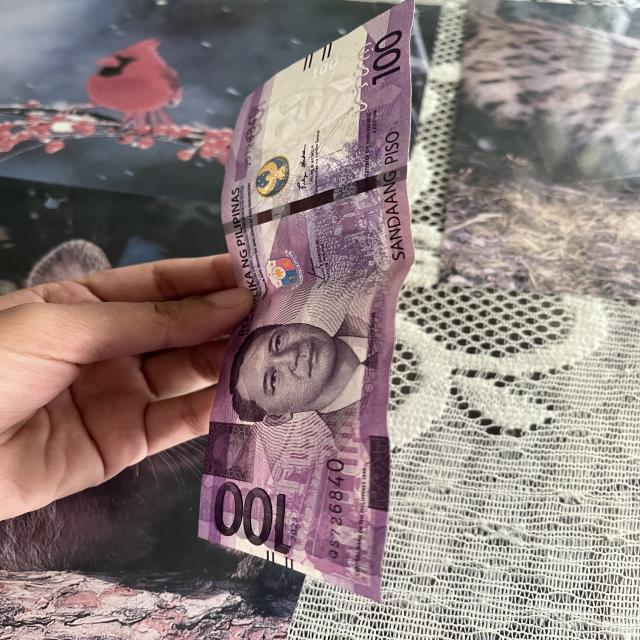concealed_value: (202, 421, 256, 483)
security_thread: (223, 165, 407, 236)
see_through_mark: (348, 36, 376, 119)
serial_number: (326, 457, 348, 561), (242, 101, 263, 172)
value: (209, 477, 293, 557)
value_watermark: (310, 56, 343, 81)
watermark: (252, 66, 356, 158)
